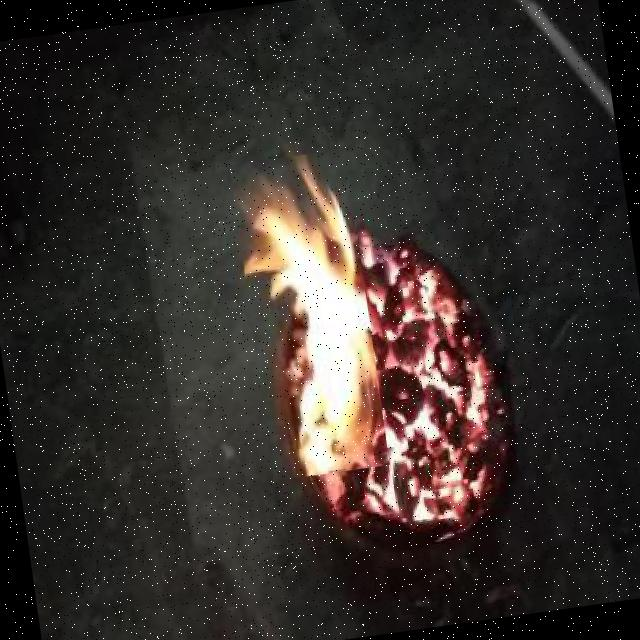fire: (230, 149, 390, 481)
